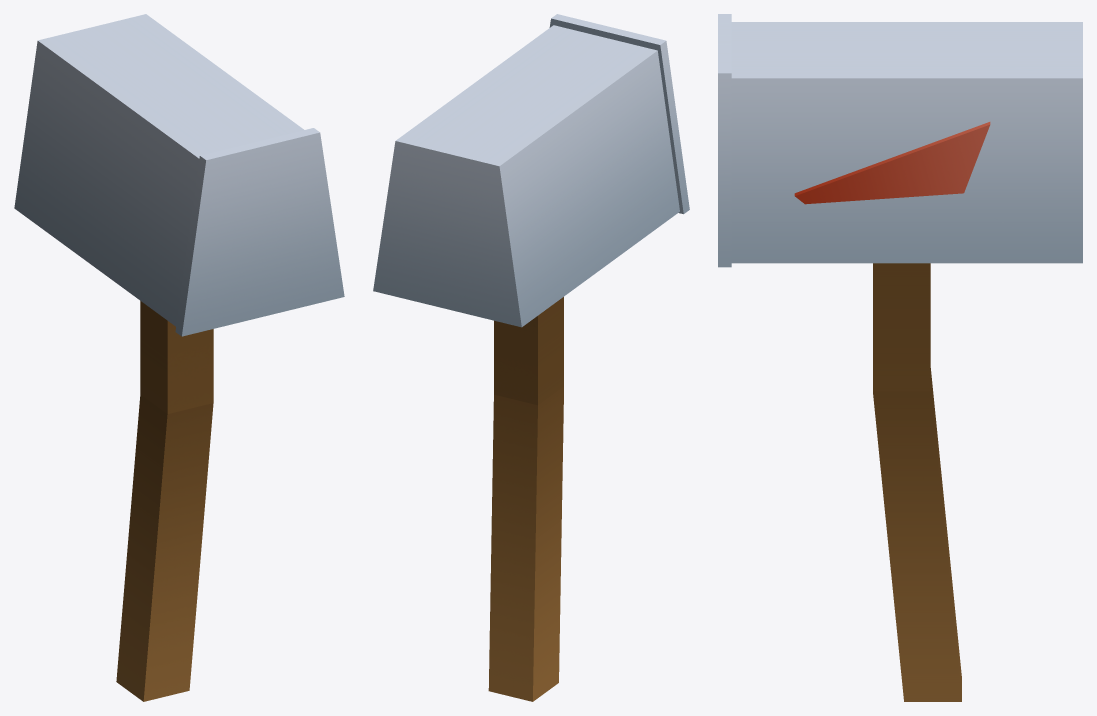
Rendered from MailboxClosed.fbx.
3 renders of one model, left to right at view 1: azimuth 30°, elevation 25°; view 2: azimuth 150°, elevation 25°; view 3: azimuth 270°, elevation 25°, orthographic. The views are drawn at different scales.
Visible parts, largest first — view 1: MailboxClose; view 2: MailboxClose; view 3: MailboxClose.
Part boxes in pixels (x1,y1,x2,y2): MailboxClose: (14,14,344,701); MailboxClose: (373,14,689,701); MailboxClose: (718,14,1082,701).
Bounding box in the file's own units: 63.29 × 226 × 115.
